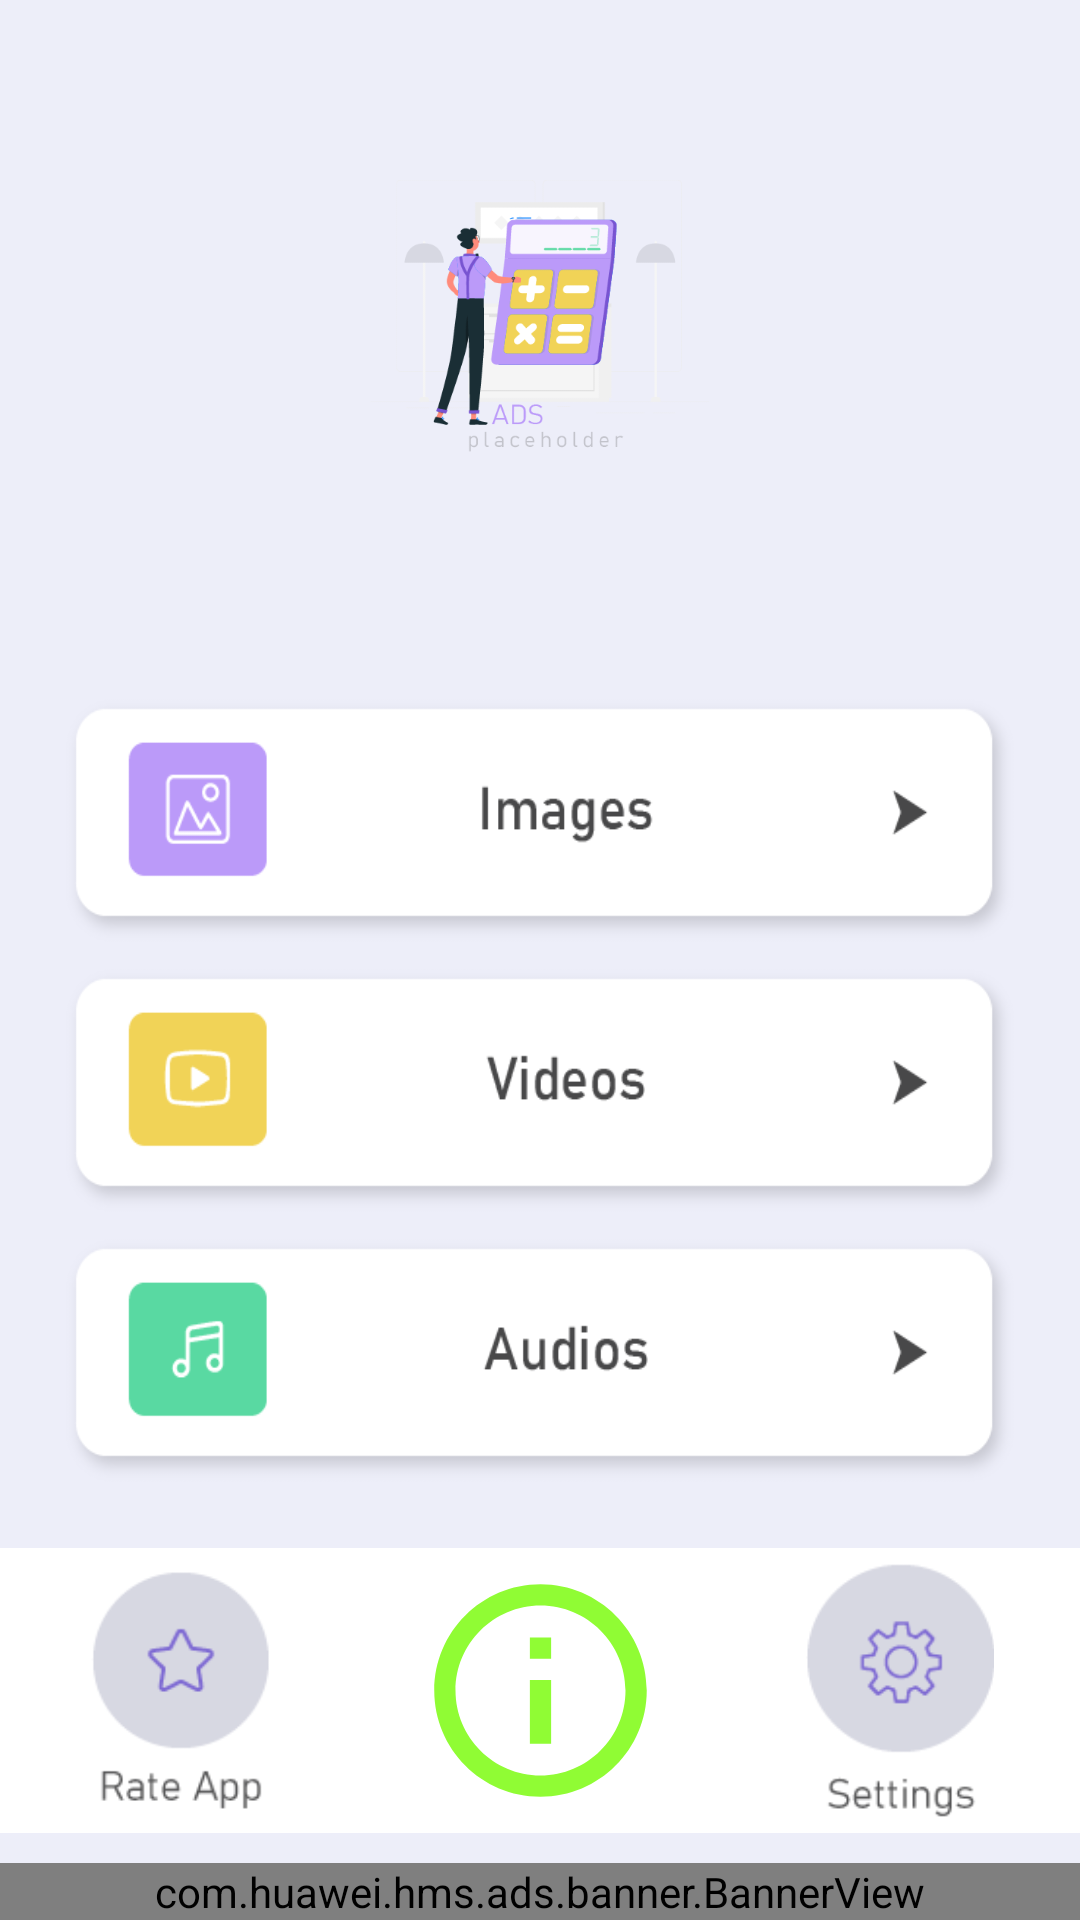

Icons on this 1080*1920 Android screen, each with its box as (x1, y1, x2, y2):
about us: (434, 1584, 647, 1797)
